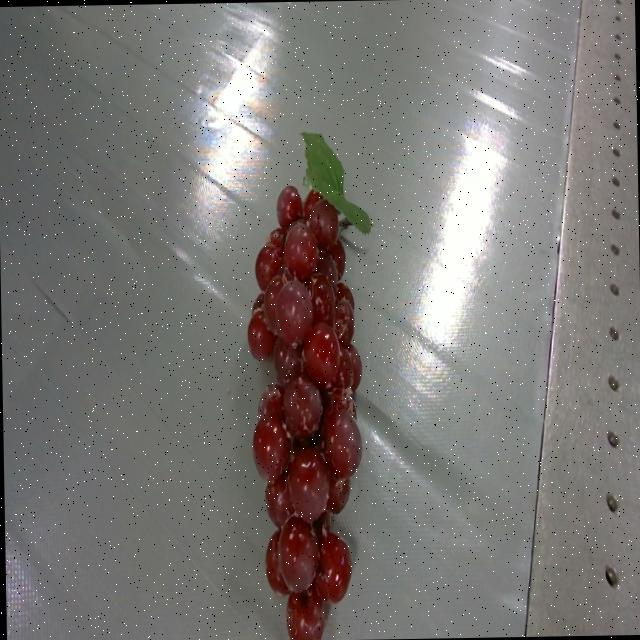grape: (246, 132, 370, 640)
